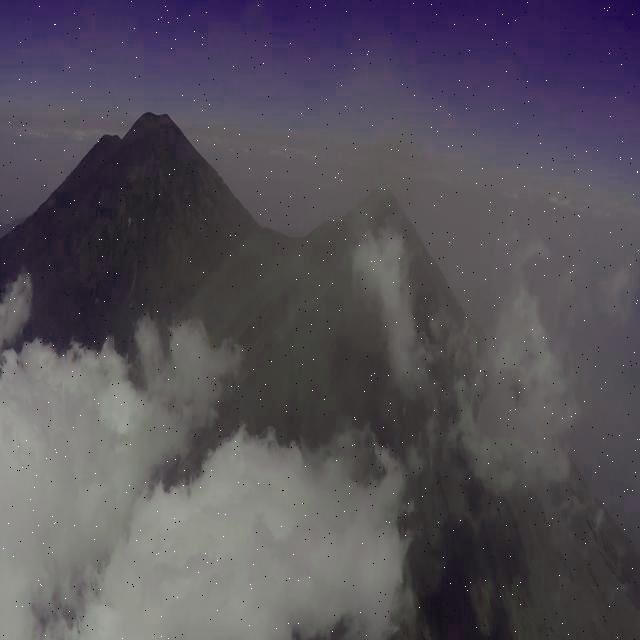Summit: (302, 177, 456, 290)
